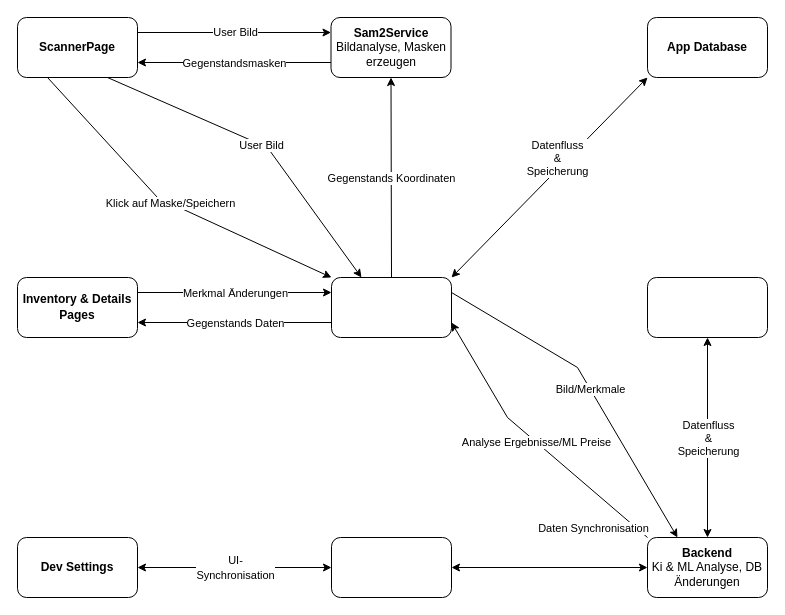
Some shapes in this 785 by 615 pixel diagram are drawn without their labels. The shapes that lost their labels are listed below. From the top down, each one's box as (x1, y1, x2, y2) in pixels, then its label:
(330, 276, 452, 338): DataService
(646, 276, 768, 338): Database
(330, 536, 452, 598): DevDataService
